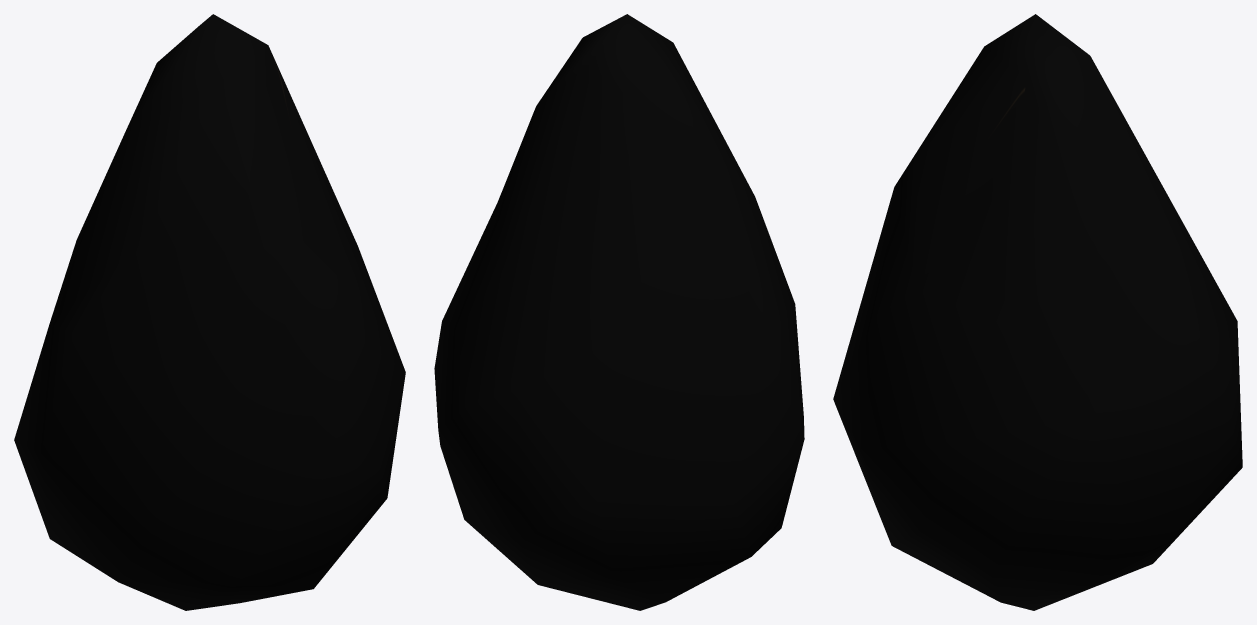
3 renders of one model, left to right at view 1: azimuth 30°, elevation 25°; view 2: azimuth 150°, elevation 25°; view 3: azimuth 270°, elevation 25°, orthographic.
Parts seen in each view (by area): view 1: Layer_1; view 2: Layer_1; view 3: Layer_1.
Boxes of the visible parts, box(x1,y1,x2,y2) form: Layer_1: box(14, 14, 405, 610); Layer_1: box(434, 14, 804, 610); Layer_1: box(833, 14, 1242, 610).
Bounding box in the file's own units: 0.0738 × 0.1228 × 0.078.
1 material, 1 textured.
